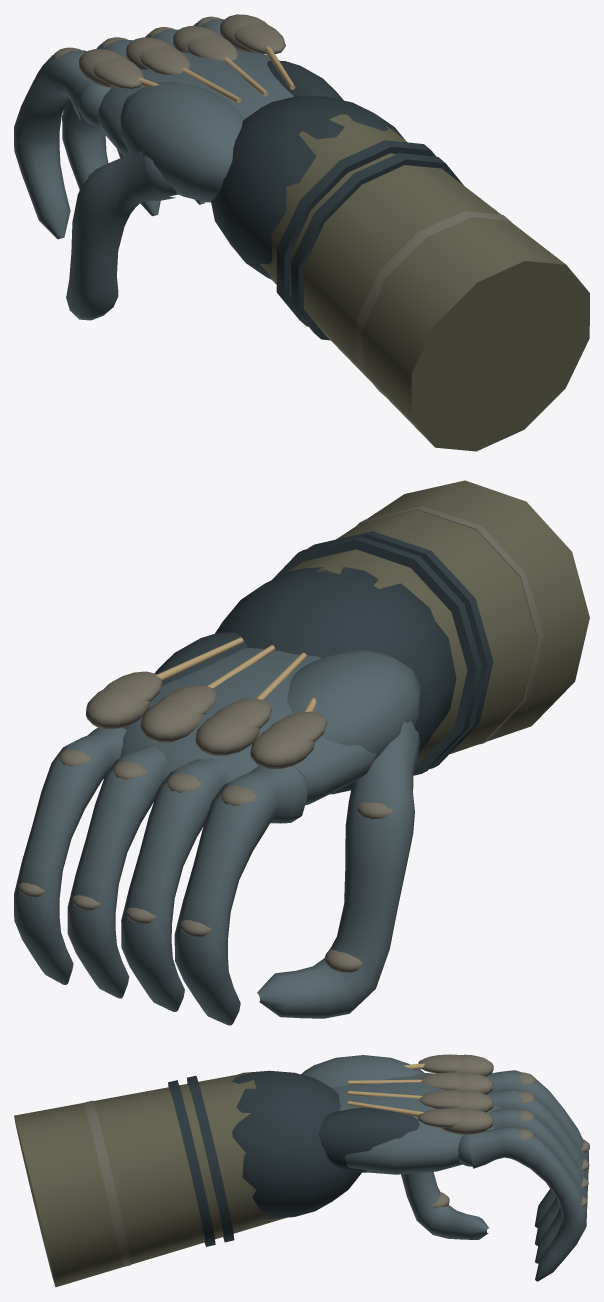
Rendered from glove_box.glb.
3 renders of one model, top to bottom at view 1: azimuth 30°, elevation 25°; view 2: azimuth 150°, elevation 25°; view 3: azimuth 270°, elevation 25°, orthographic. The views are drawn at different scales.
Size of the model in its own units: 0.1315 by 0.116 by 0.2995.
